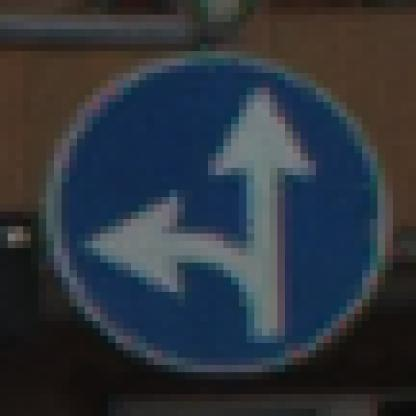Straight or Left: (39, 38, 371, 381)
